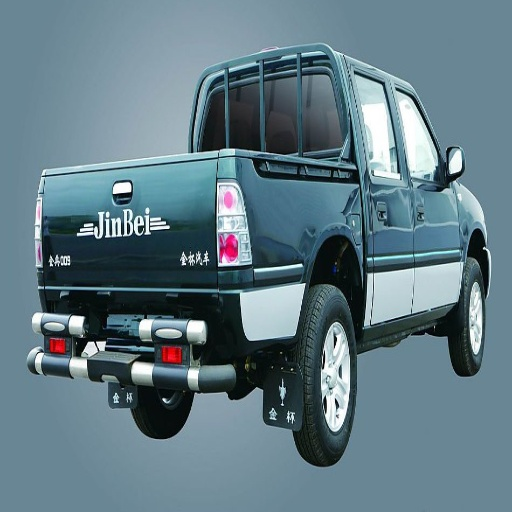back_right_door: (354, 63, 414, 315), (261, 67, 306, 145)
trunk: (46, 154, 361, 331)
